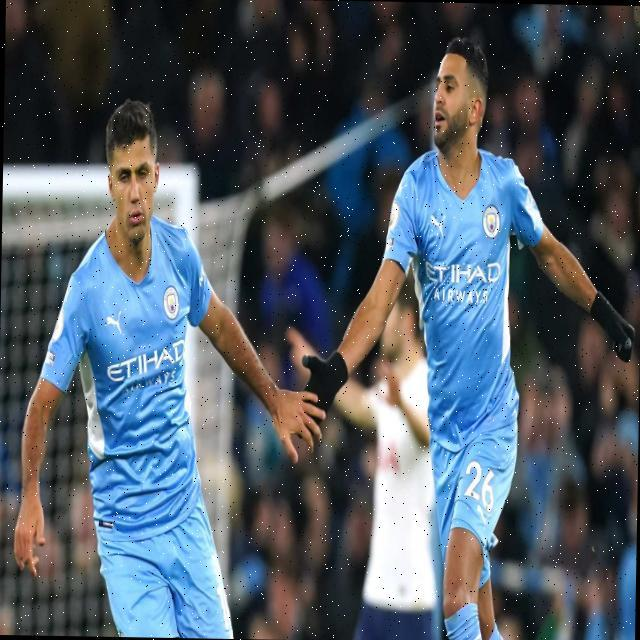Etihad Airways: (106, 339, 185, 394), (422, 258, 502, 307)
Puma: (104, 309, 124, 342), (428, 214, 445, 240), (476, 503, 490, 532)
